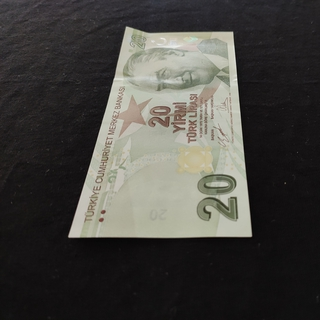20TLFront: (68, 25, 253, 245)
